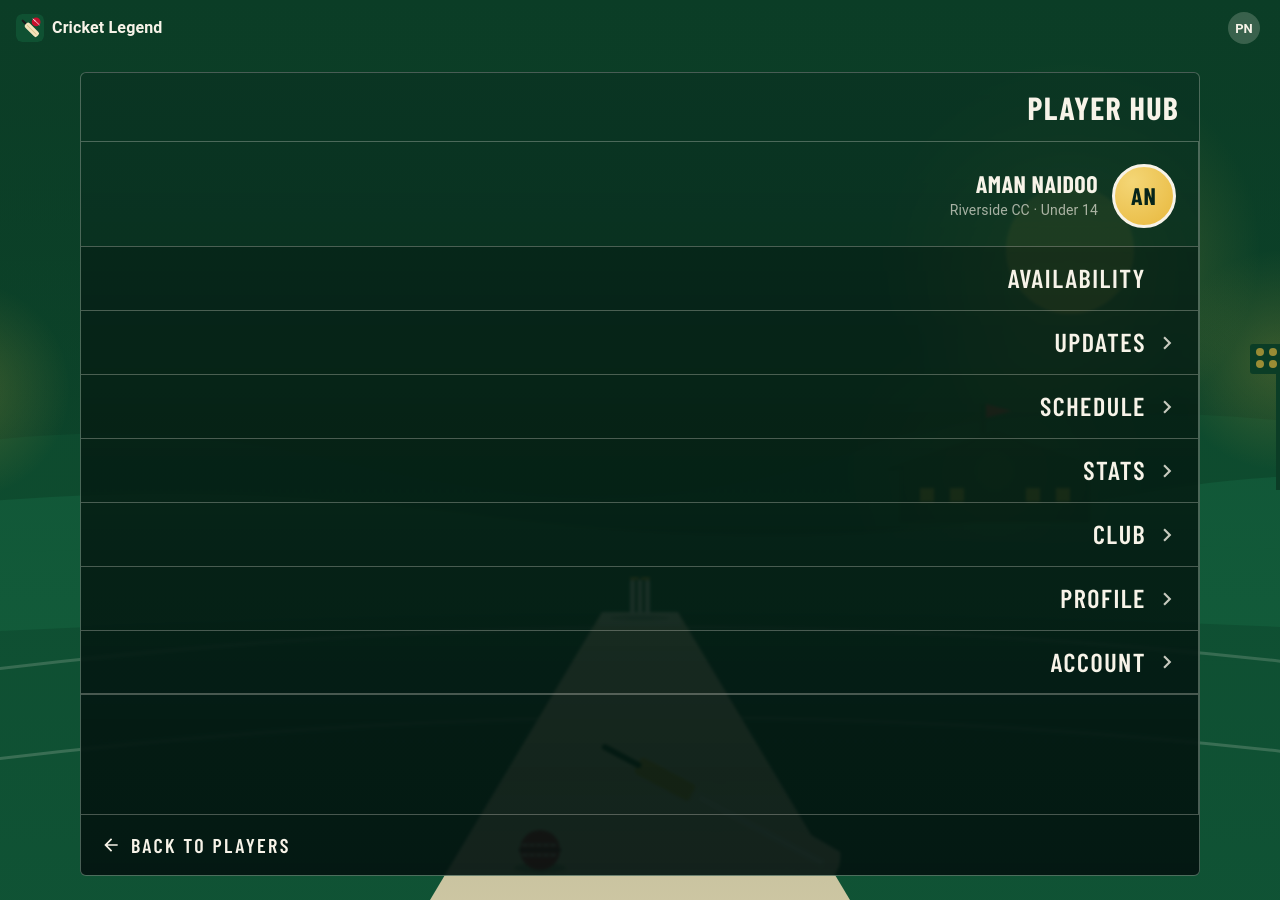
MyPlayerPage on a phone (menu first, then a page) › choosing a bar opens its first page with a pill row, and Back to menu returns to the menu
Click the button "Profile": (1103, 598) [81,566,1198,630]
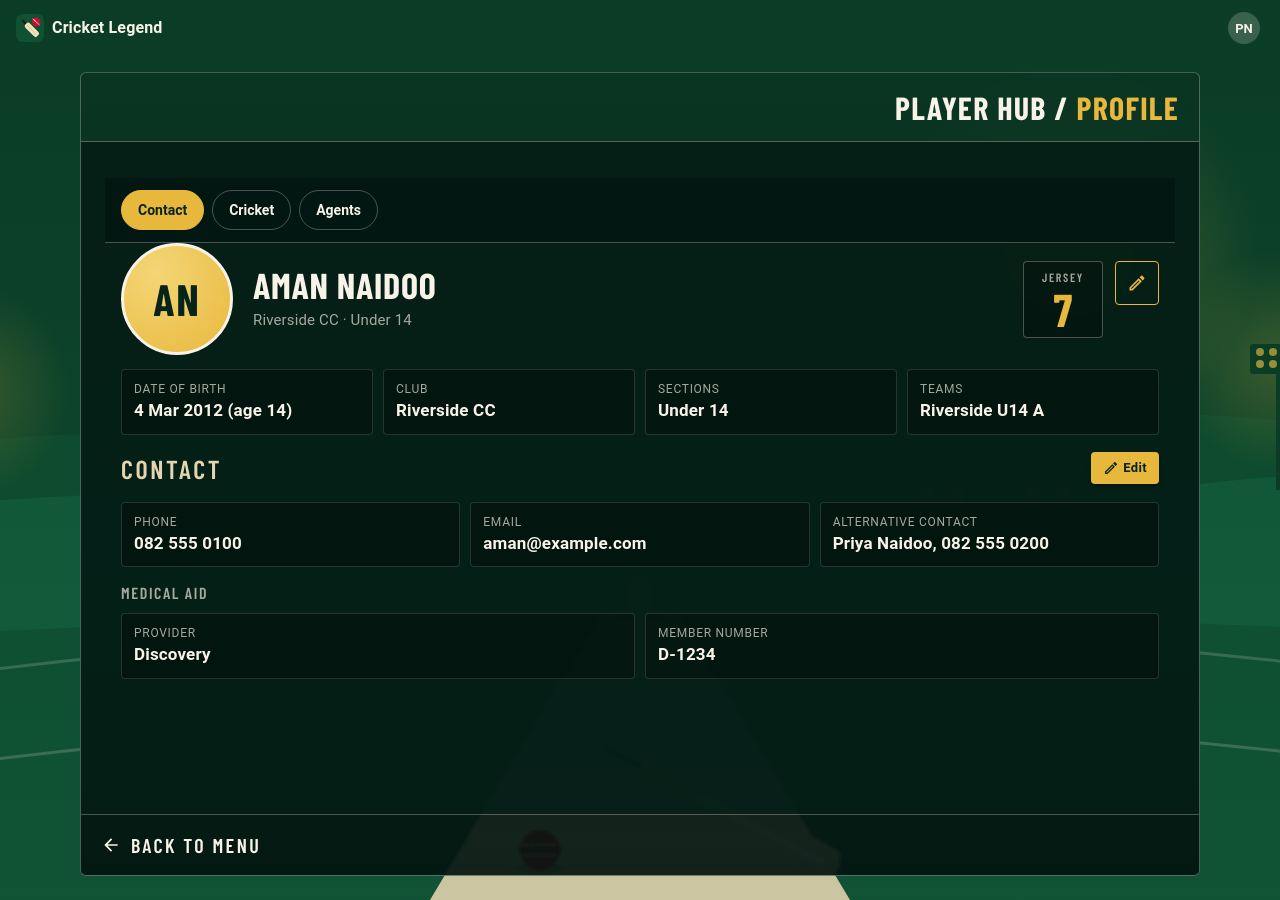
expect the element with test id "hub-profile" is shown: met, box [121,243,1159,678]
expect the navigation bar named "Profile pages" is shown: met, box [105,178,1175,243]
expect the button "Back to players" is gone: met
Click the button "Back to menu": (181, 845) [101,823,261,867]
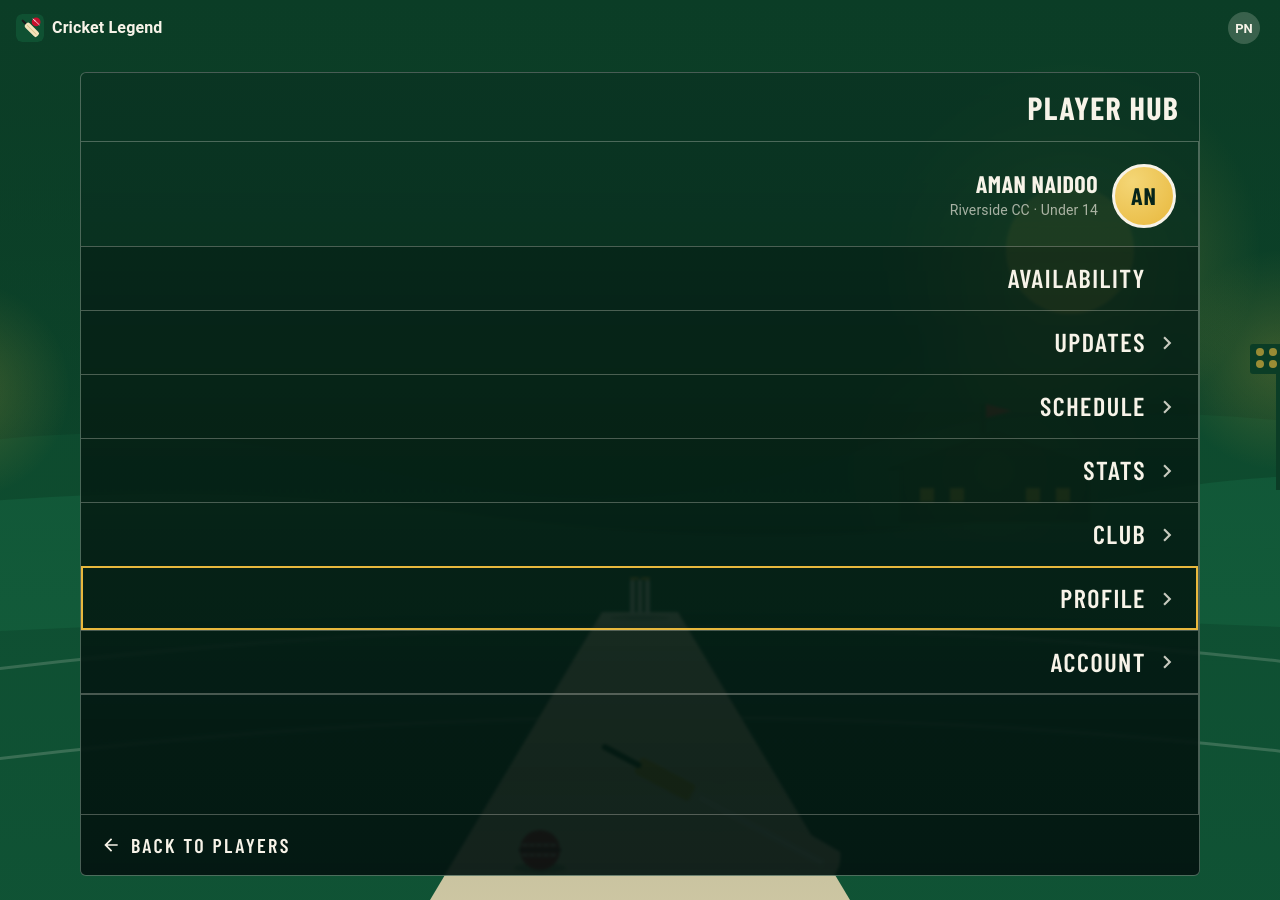
expect the button "Profile" is shown: met, box [81,566,1198,630]
expect the element with test id "hub-profile" is gone: met
